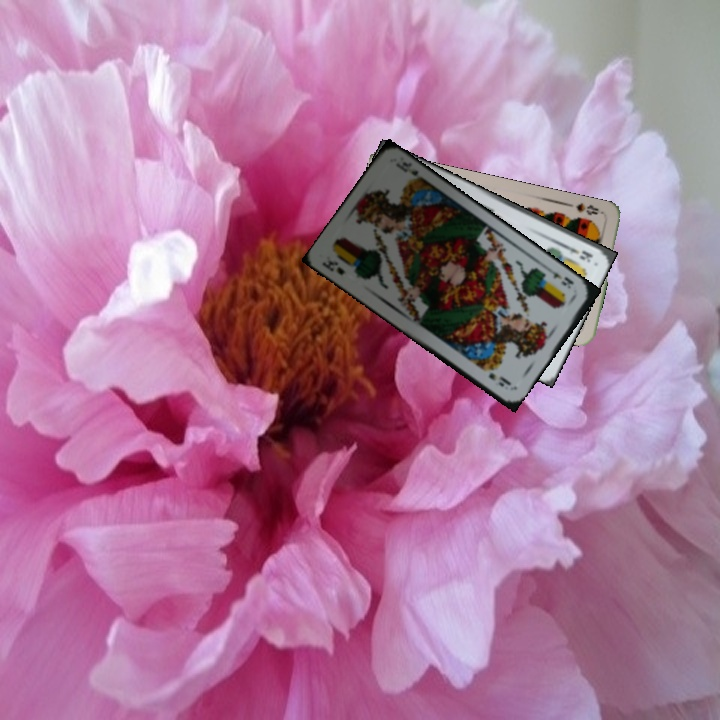EK: (557, 239, 596, 265), (545, 265, 576, 291), (319, 253, 347, 277)
S8: (572, 199, 606, 218)
